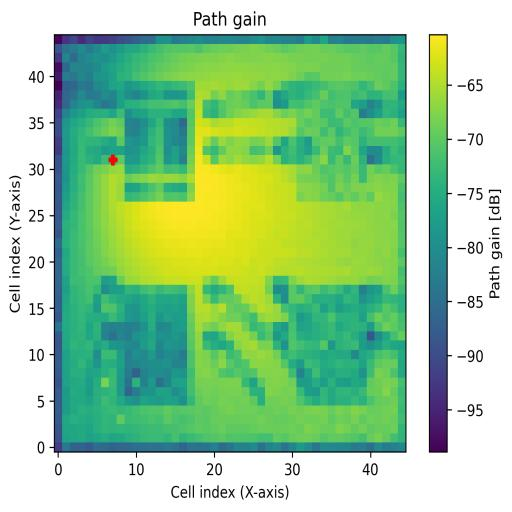Concrete: (295, 80, 375, 200)
Glass: (124, 82, 194, 200)
Metal: (296, 284, 376, 406)
Wood: (117, 285, 187, 404)
